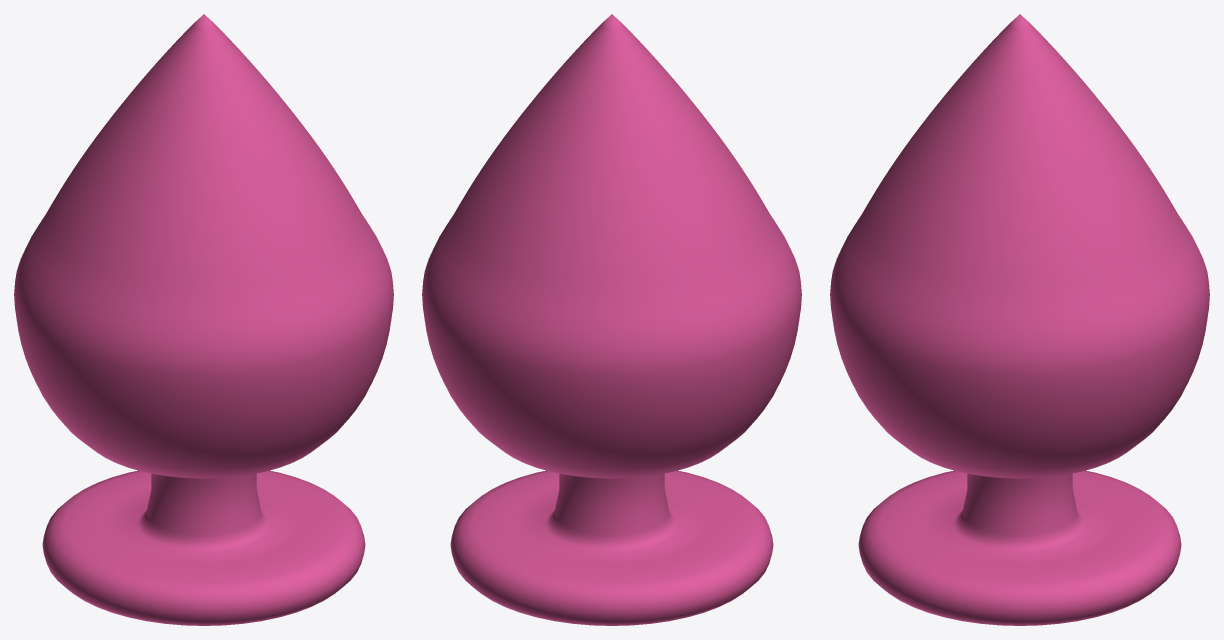
The model's file is chess-pawn-lod0.glb.
3 renders of one model, left to right at view 1: azimuth 30°, elevation 25°; view 2: azimuth 150°, elevation 25°; view 3: azimuth 270°, elevation 25°, orthographic.
Visible parts, largest first — view 1: pawn; view 2: pawn; view 3: pawn.
Boxes of the visible parts, x1,y1,x2,y2 form: pawn: [14, 14, 393, 625]; pawn: [422, 14, 801, 625]; pawn: [830, 14, 1209, 625].
Bounding box in the file's own units: 0.3436 × 0.55 × 0.3436.
